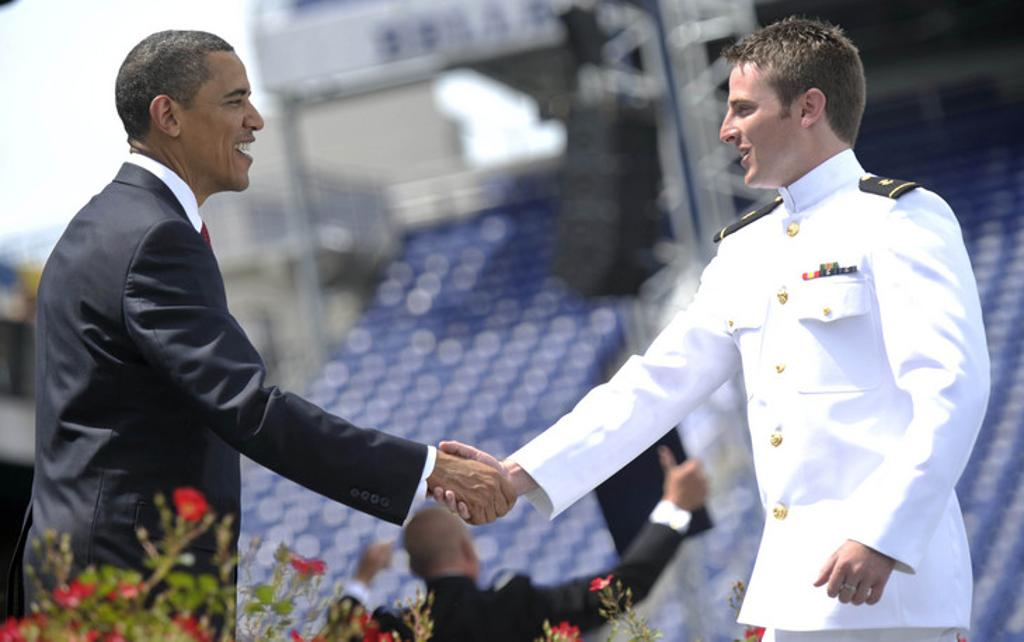face: (194, 54, 264, 192), (722, 56, 794, 186)
